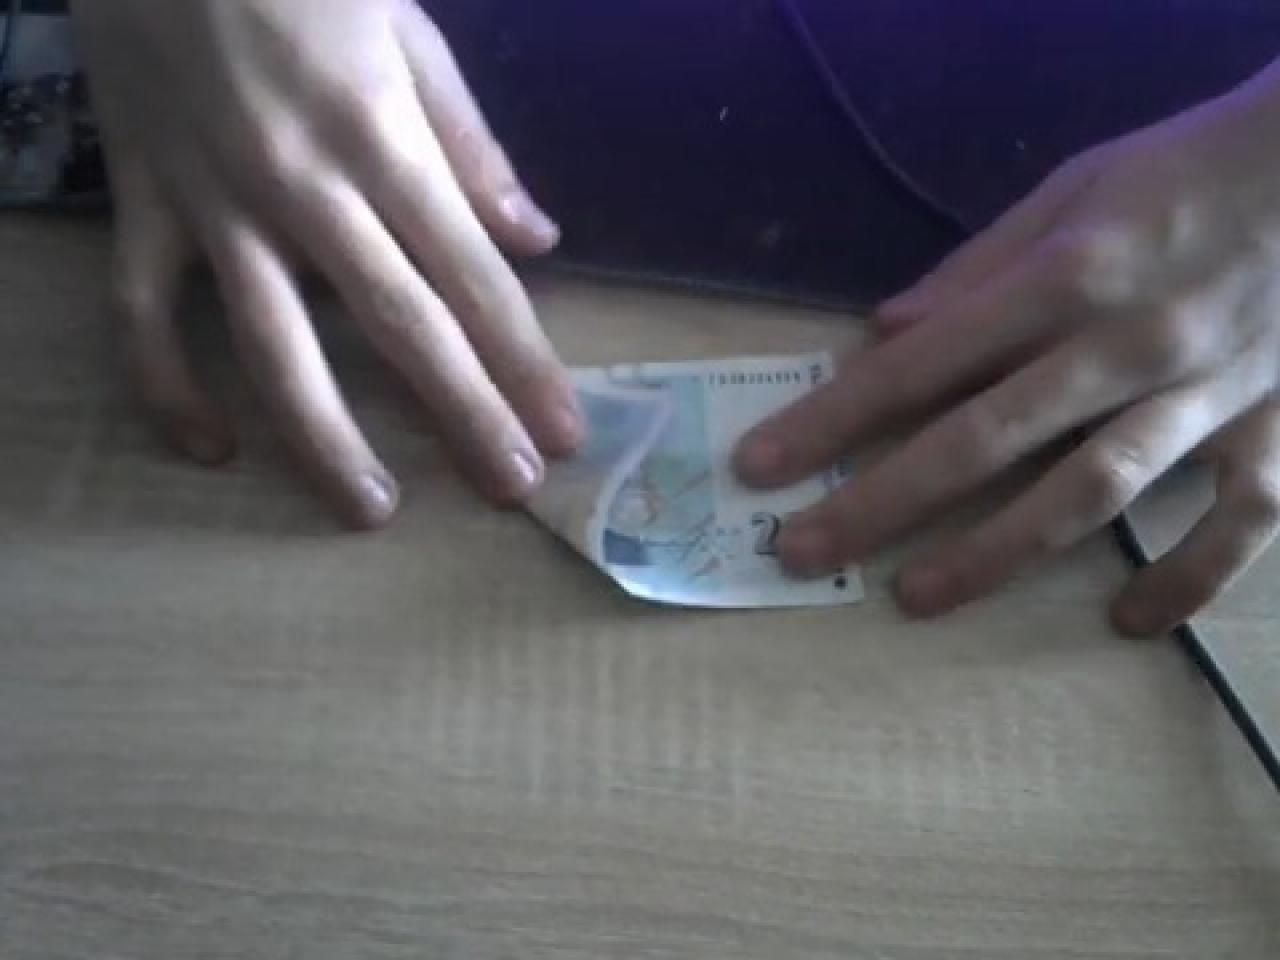20leva: (515, 347, 869, 613)
